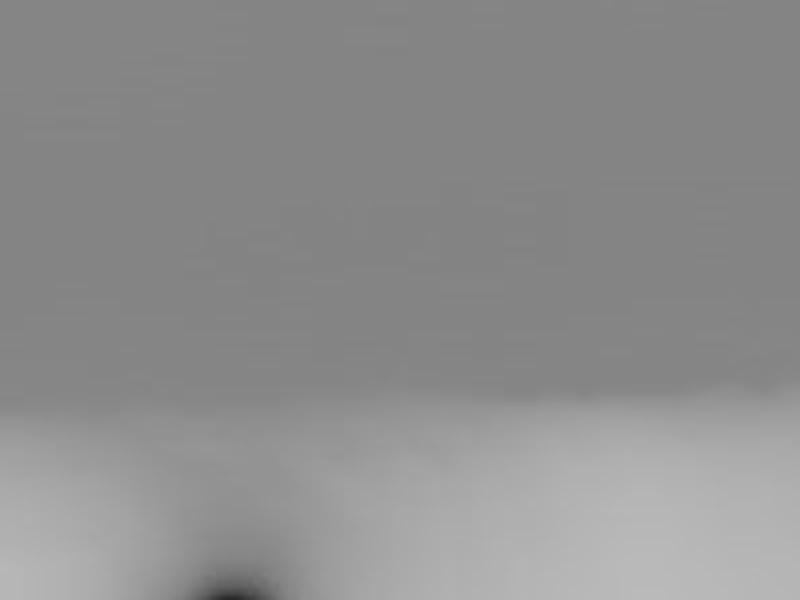defect: (203, 586, 265, 600)
